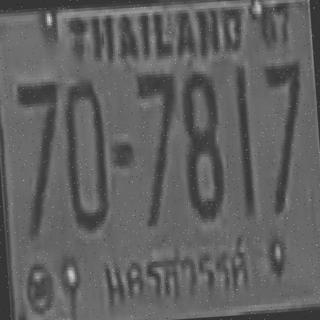N00: (60, 77, 109, 230)
N01: (233, 65, 253, 217)
N07: (15, 78, 66, 235), (135, 70, 182, 223), (262, 58, 308, 212)
N08: (178, 67, 223, 218)
P31: (91, 235, 256, 306)
